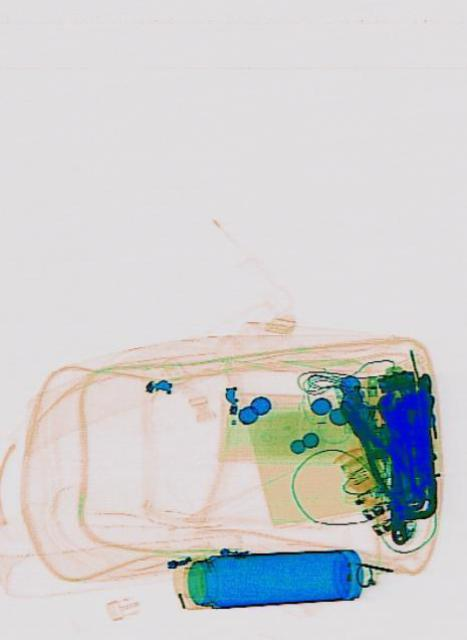Pliers: (328, 386, 410, 500)
Wrench: (375, 392, 413, 544)
